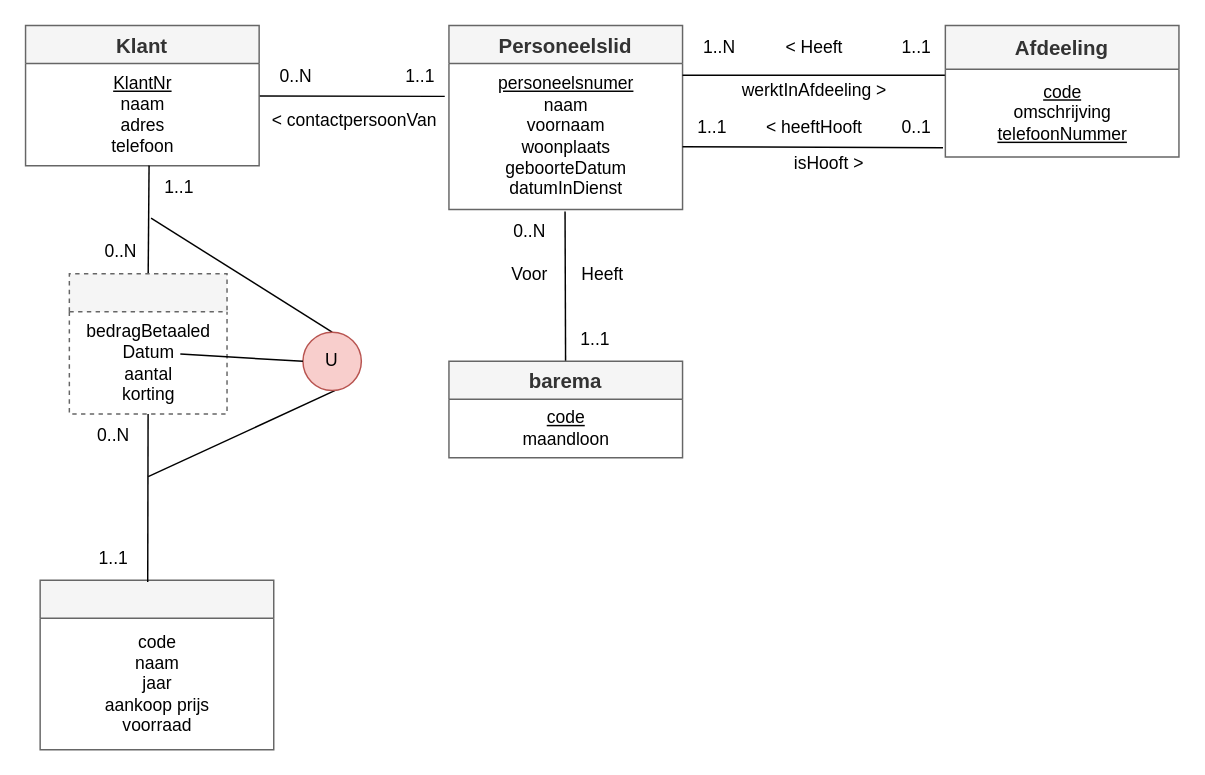
The diagram is 1205 pixels wide and 775 high, and some of its shapes have lost their labels. Each missing label, with the box of its shape:
Aankoop: (68, 272, 227, 414)
Wijn: (39, 579, 274, 750)
